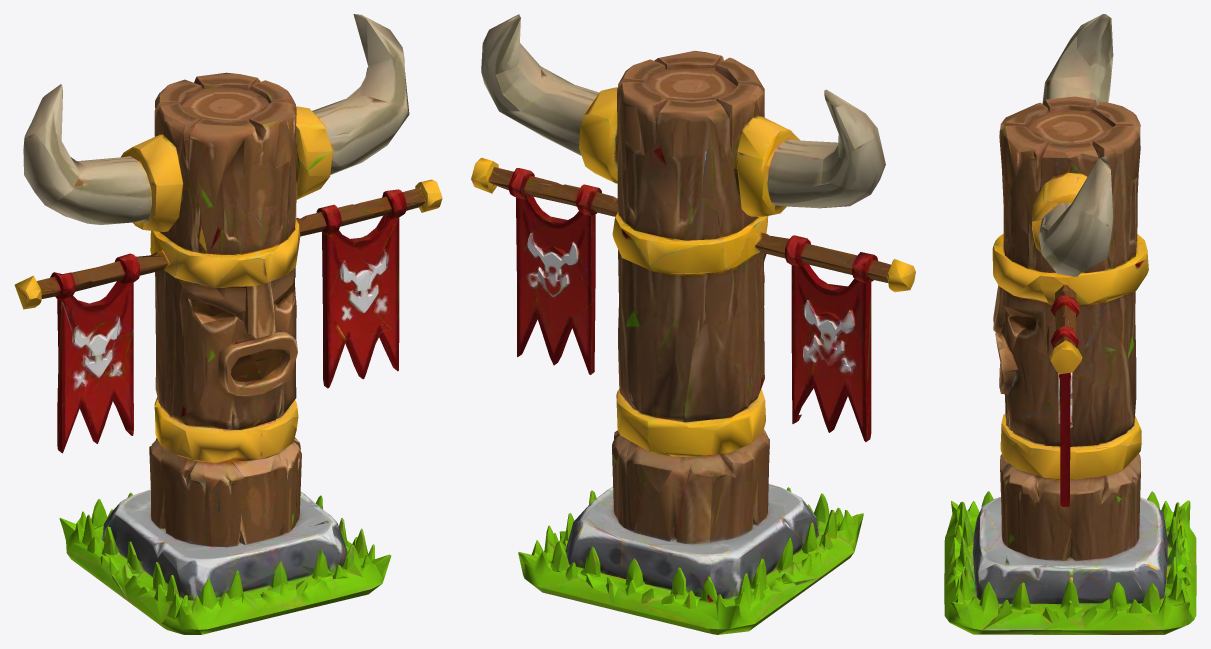
The model's file is totem-2.glb.
The picture shows the model from 3 angles, left to right: view 1: azimuth 30°, elevation 25°; view 2: azimuth 150°, elevation 25°; view 3: azimuth 270°, elevation 25°; orthographic projection. The views are drawn at different scales.
Bounding box in the file's own units: 1.62 × 1.9 × 0.865.
1 material, 1 textured.
